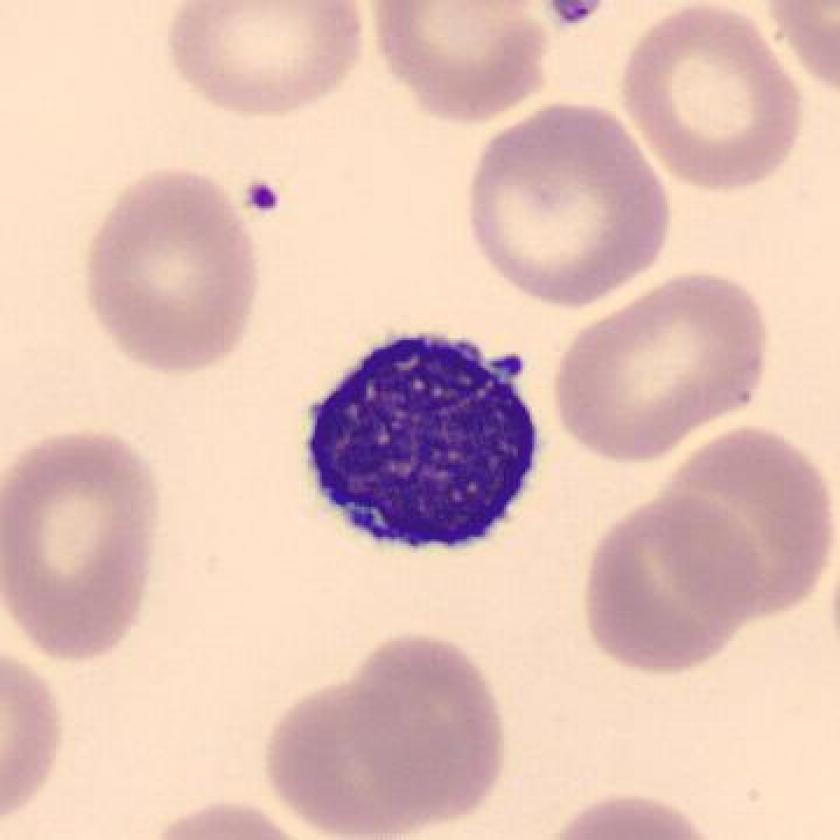lymphocyte: (293, 314, 559, 571)
